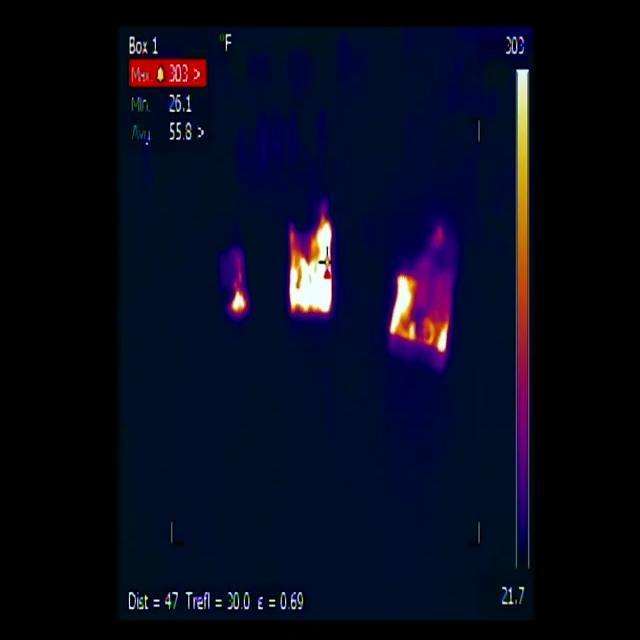fire: (289, 214, 336, 315), (389, 273, 419, 345), (436, 319, 453, 357), (230, 288, 248, 318)
